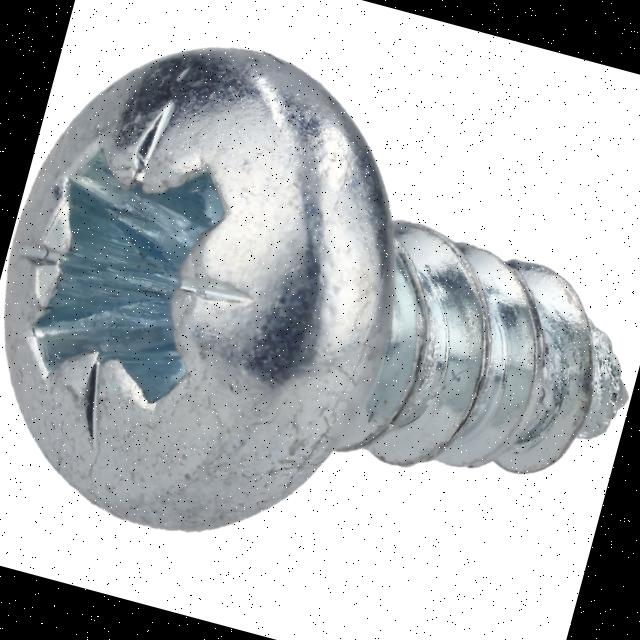Pozidriv: (0, 0, 376, 547)
